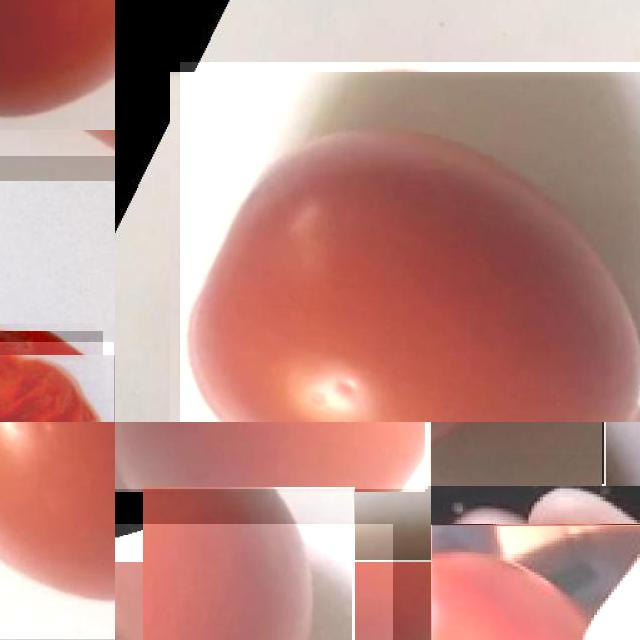0: (0, 422, 115, 639), (0, 0, 115, 155)
1: (0, 342, 114, 422)
Fresh Tomato: (179, 61, 640, 422), (115, 524, 393, 640), (431, 525, 640, 640)
